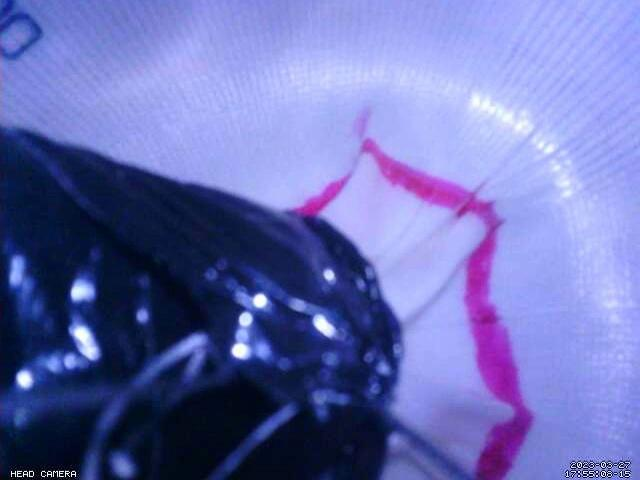red-circle: (292, 137, 535, 480)
